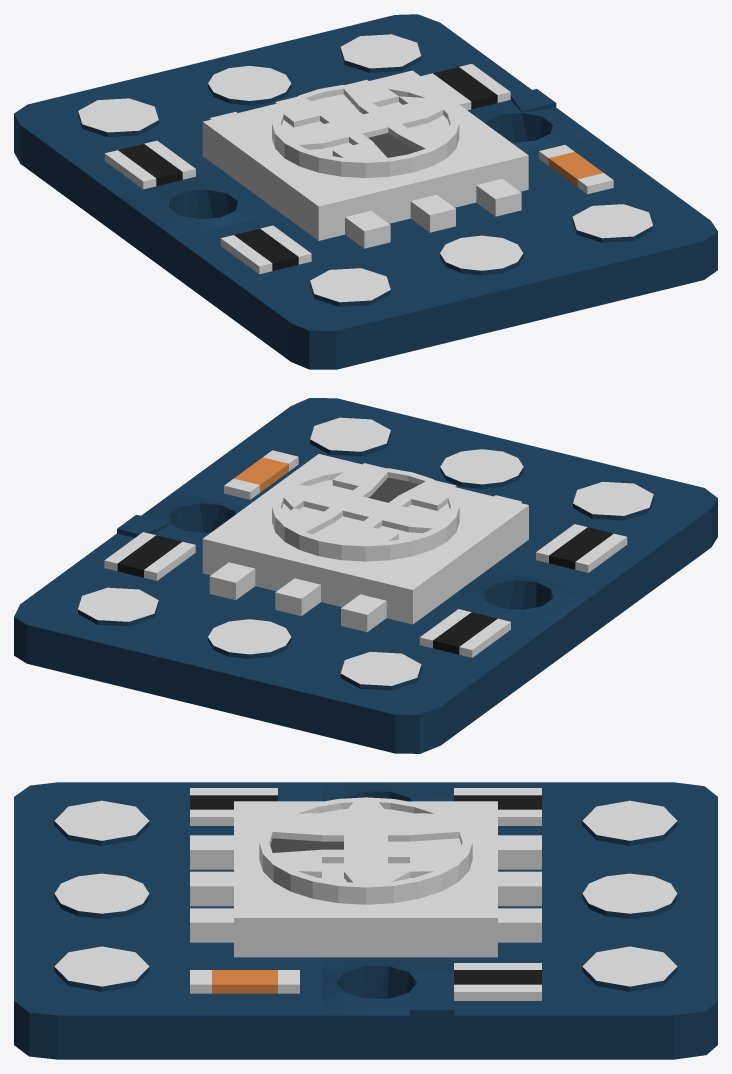
File: NeoPixel.glb
3 renders of one model, top to bottom at view 1: azimuth 30°, elevation 25°; view 2: azimuth 150°, elevation 25°; view 3: azimuth 270°, elevation 25°, orthographic. The views are drawn at different scales.
Parts seen in each view (by area): view 1: NeoPixel; view 2: NeoPixel; view 3: NeoPixel.
Boxes of the visible parts, box(x1,y1,x2,y2) form: NeoPixel: box(14, 14, 717, 369); NeoPixel: box(14, 398, 717, 753); NeoPixel: box(14, 782, 717, 1059).
Bounding box in the file's own units: 0.0939 × 0.0189 × 0.1198.
